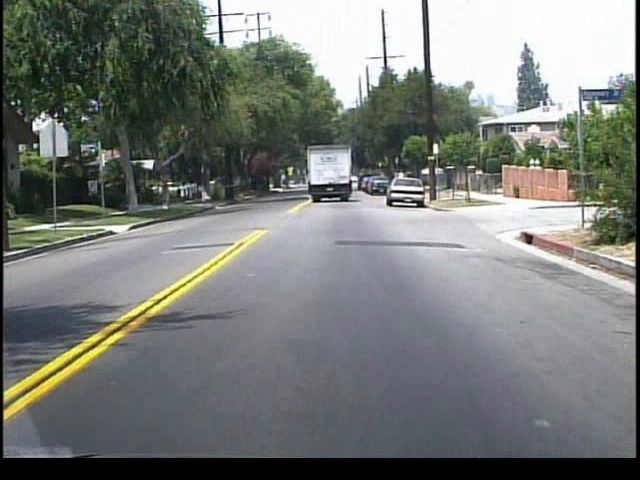person: (473, 166, 485, 195)
